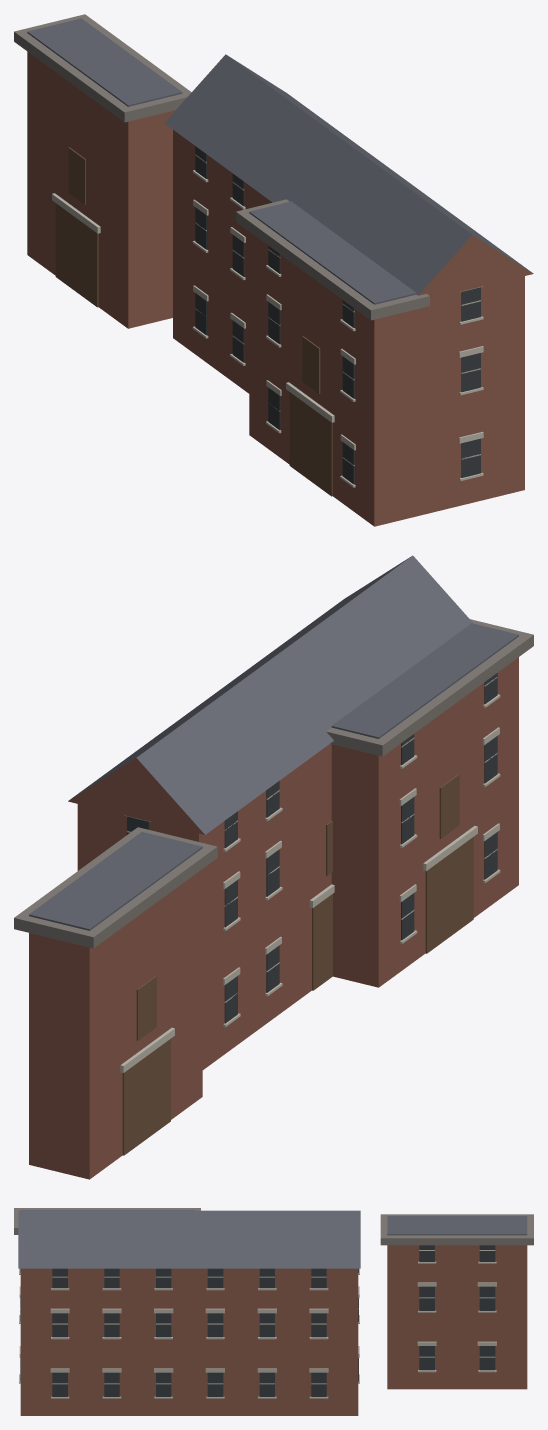
The model's file is tucker_smith_house_2140_prairie_alley_building__draft_1904.glb.
3 views of the same model, one above another, from view 1: azimuth 30°, elevation 25°; view 2: azimuth 150°, elevation 25°; view 3: azimuth 270°, elevation 25° (orthographic). The views are drawn at different scales.
Visible parts, largest first — view 1: tucker_smith_house_2140_prairie_alley_building__draft_1904; view 2: tucker_smith_house_2140_prairie_alley_building__draft_1904; view 3: tucker_smith_house_2140_prairie_alley_building__draft_1904.
Part boxes in pixels (x1=…): tucker_smith_house_2140_prairie_alley_building__draft_1904: x1=14, y1=14, x2=533, y2=526; tucker_smith_house_2140_prairie_alley_building__draft_1904: x1=14, y1=555, x2=533, y2=1179; tucker_smith_house_2140_prairie_alley_building__draft_1904: x1=14, y1=1208, x2=533, y2=1415.
Bounding box in the file's own units: 6.9 × 10.69 × 26.95.
